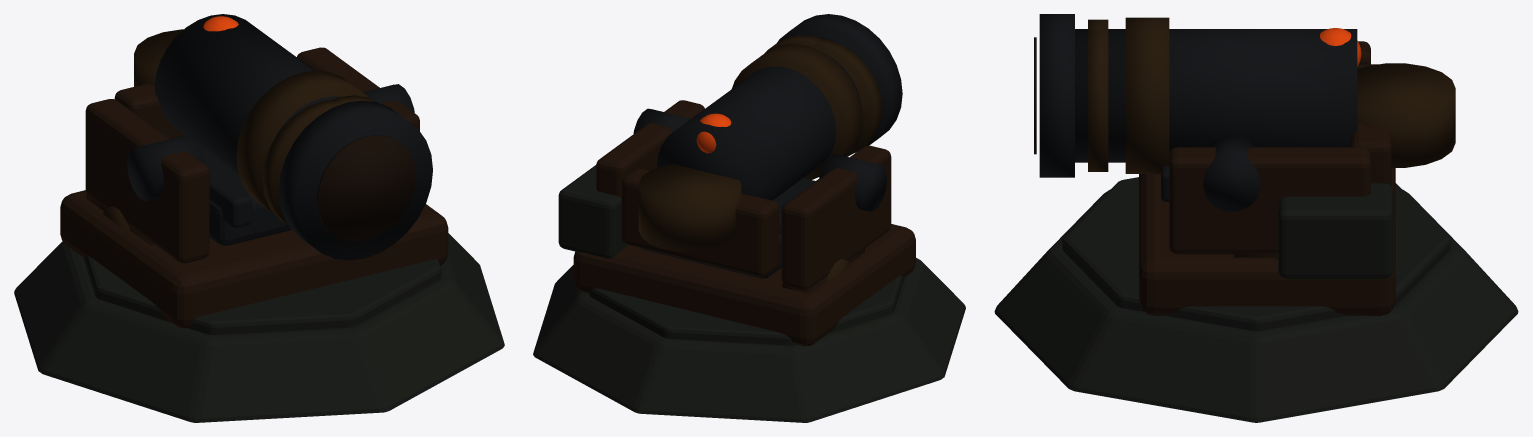
Rendered from TowerSiege3_pose.obj.
3 renders of one model, left to right at view 1: azimuth 30°, elevation 25°; view 2: azimuth 150°, elevation 25°; view 3: azimuth 270°, elevation 25°, orthographic. The views are drawn at different scales.
Visible parts, largest first — view 1: limestone_socket_lower_course, oak_carriage, forged_mortar_barrel, carriage_cheek, black_muzzle_rim, limestone_socket_upper_course, dark_bore, bronze_reinforce_collar, iron_cradle, iron_trunnion, apex_barrel_band, carriage_cheek.001 (+4 smaller); view 2: limestone_socket_lower_course, oak_carriage, forged_mortar_barrel, carriage_cheek, counterweight, limestone_socket_upper_course, recoil_stop, bronze_reinforce_collar, stone_ammo_chest, black_muzzle_rim, carriage_cheek.001, apex_barrel_band (+4 smaller); view 3: limestone_socket_lower_course, forged_mortar_barrel, oak_carriage, carriage_cheek.001, limestone_socket_upper_course, stone_ammo_chest, counterweight, bronze_reinforce_collar, black_muzzle_rim, iron_trunnion.001, apex_barrel_band.001, recoil_stop (+1 smaller).
Boxes of the visible parts, <box> form: limestone_socket_lower_course: <box>14,233,504,422</box>; oak_carriage: <box>60,190,448,328</box>; forged_mortar_barrel: <box>154,14,340,174</box>; carriage_cheek: <box>85,99,209,263</box>; black_muzzle_rim: <box>278,100,432,260</box>; limestone_socket_upper_course: <box>83,256,441,335</box>; dark_bore: <box>316,135,416,241</box>; bronze_reinforce_collar: <box>236,70,370,214</box>; iron_cradle: <box>197,144,291,245</box>; iron_trunnion: <box>127,135,204,200</box>; apex_barrel_band: <box>262,100,337,226</box>; carriage_cheek.001: <box>297,47,419,130</box>; limestone_socket_lower_course: <box>533,258,965,422</box>; oak_carriage: <box>573,224,915,346</box>; forged_mortar_barrel: <box>657,37,861,200</box>; carriage_cheek: <box>781,145,891,290</box>; counterweight: <box>638,164,741,251</box>; limestone_socket_upper_course: <box>589,275,904,345</box>; recoil_stop: <box>621,168,779,276</box>; bronze_reinforce_collar: <box>732,44,862,179</box>; stone_ammo_chest: <box>558,165,628,258</box>; black_muzzle_rim: <box>777,14,902,152</box>; carriage_cheek.001: <box>596,100,704,197</box>; apex_barrel_band: <box>805,39,881,155</box>; limestone_socket_lower_course: <box>994,189,1518,422</box>; forged_mortar_barrel: <box>1075,29,1357,162</box>; oak_carriage: <box>1139,168,1395,315</box>; carriage_cheek.001: <box>1169,147,1370,254</box>; limestone_socket_upper_course: <box>1062,177,1450,331</box>; stone_ammo_chest: <box>1278,183,1392,279</box>; counterweight: <box>1357,63,1455,167</box>; bronze_reinforce_collar: <box>1125,17,1169,173</box>; black_muzzle_rim: <box>1039,14,1074,177</box>; iron_trunnion.001: <box>1203,135,1260,211</box>; apex_barrel_band.001: <box>1088,31,1108,171</box>; recoil_stop: <box>1350,64,1391,186</box>.
Bounding box in the file's own units: 1.92 × 1.18 × 1.92.
